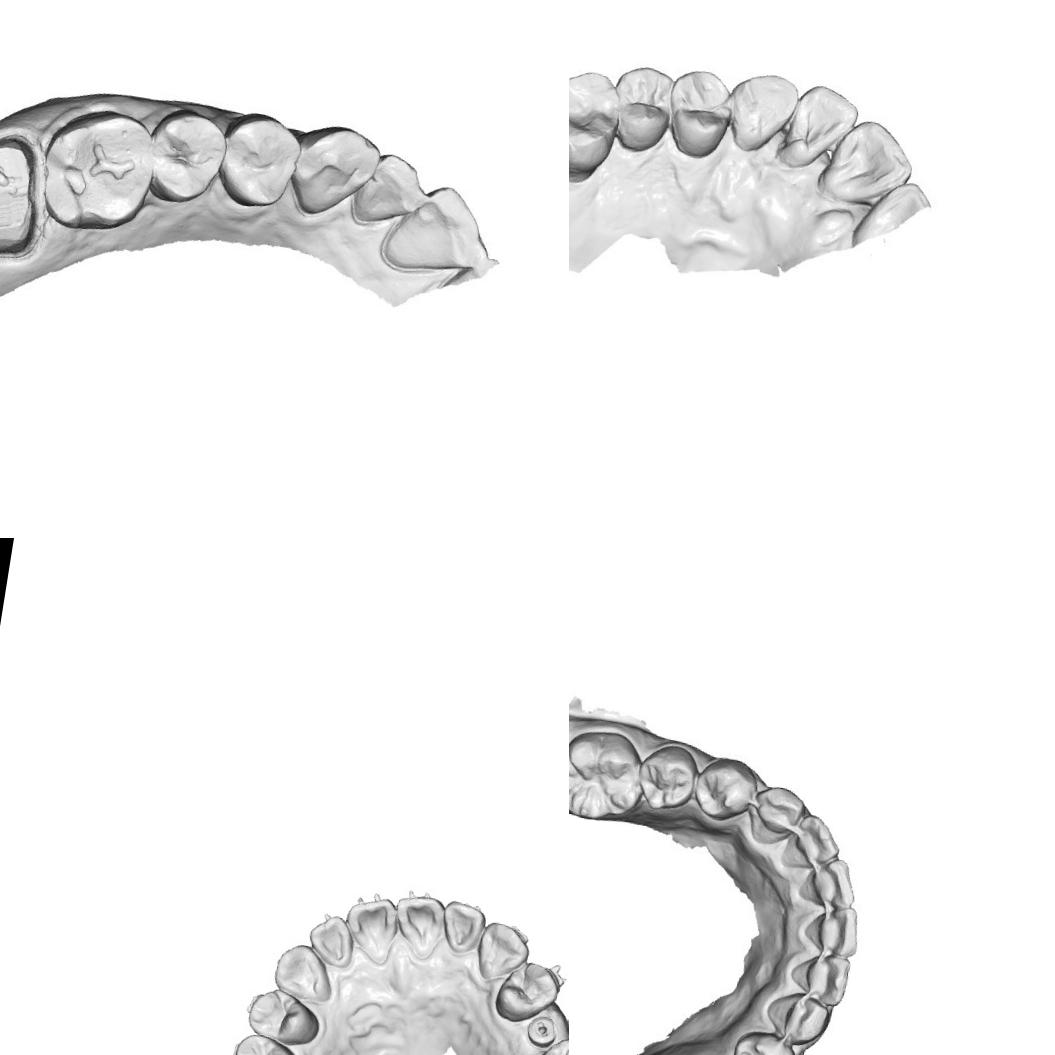canine: (290, 112, 380, 232), (725, 68, 799, 159), (269, 940, 340, 1008), (746, 780, 808, 852), (470, 919, 533, 989), (760, 990, 830, 1048)
crown: (0, 120, 57, 265)
implant_minus: (522, 1012, 560, 1054)
incisor: (386, 177, 494, 281), (824, 116, 914, 210), (778, 77, 858, 175), (352, 144, 428, 234), (338, 886, 404, 968), (387, 889, 448, 963), (782, 810, 845, 878), (791, 944, 857, 1006), (800, 854, 860, 916), (804, 900, 866, 960), (303, 910, 359, 971), (436, 898, 491, 960)
molar: (33, 102, 164, 236), (569, 725, 644, 831), (569, 65, 622, 179)
premolar: (214, 104, 304, 215), (144, 105, 232, 211), (662, 64, 740, 161), (610, 61, 679, 146), (688, 749, 762, 826), (243, 983, 325, 1050), (490, 956, 564, 1030), (637, 736, 700, 816), (228, 1029, 305, 1055), (732, 1029, 800, 1055)
